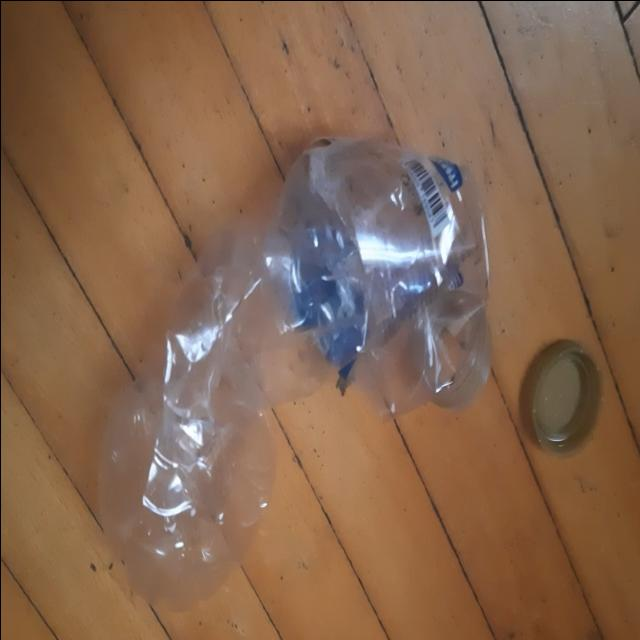Plastic: (97, 137, 491, 613)
